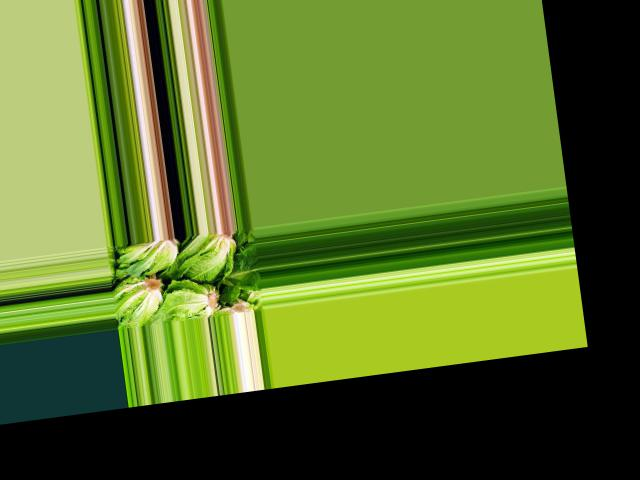lettuce: (223, 255, 262, 294)
